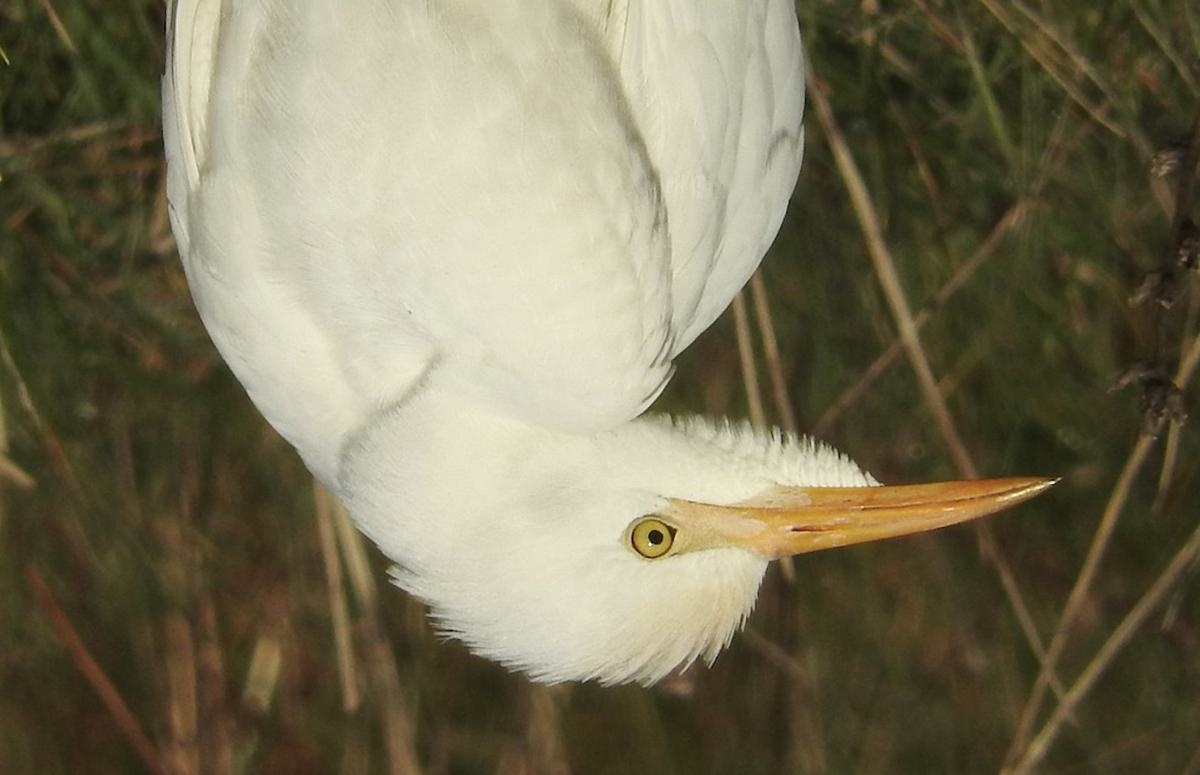egret: (135, 1, 1070, 695)
